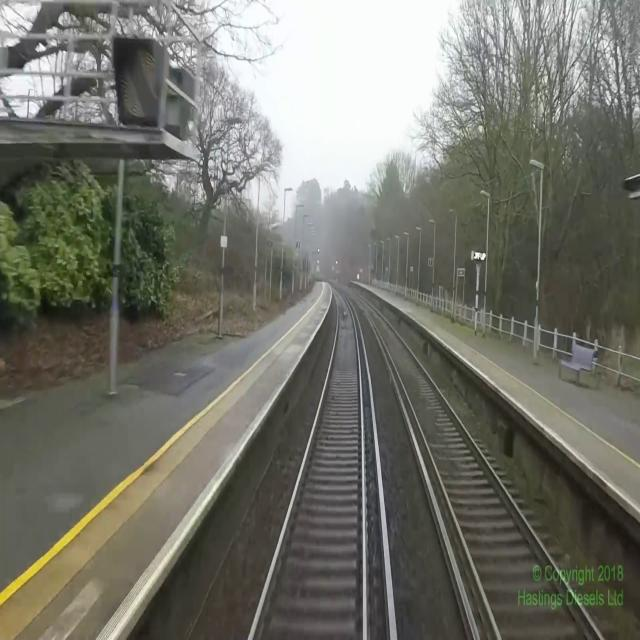rail-track: (356, 296, 598, 639), (253, 291, 361, 639)
